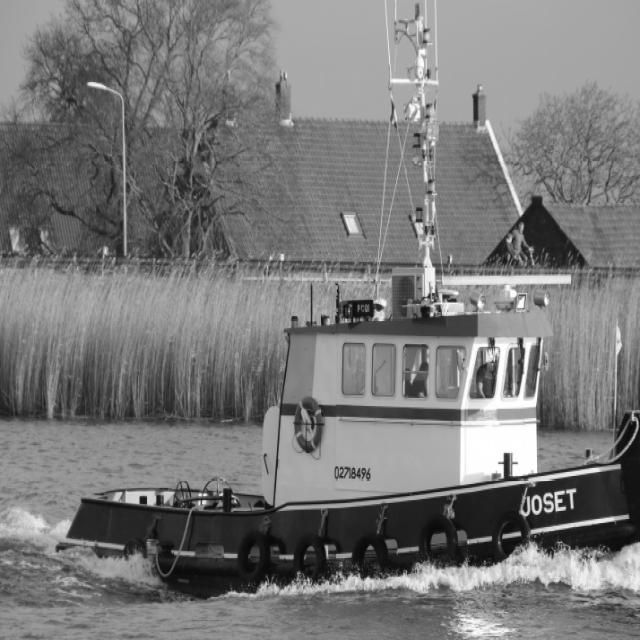tugboat: (51, 250, 640, 610)
